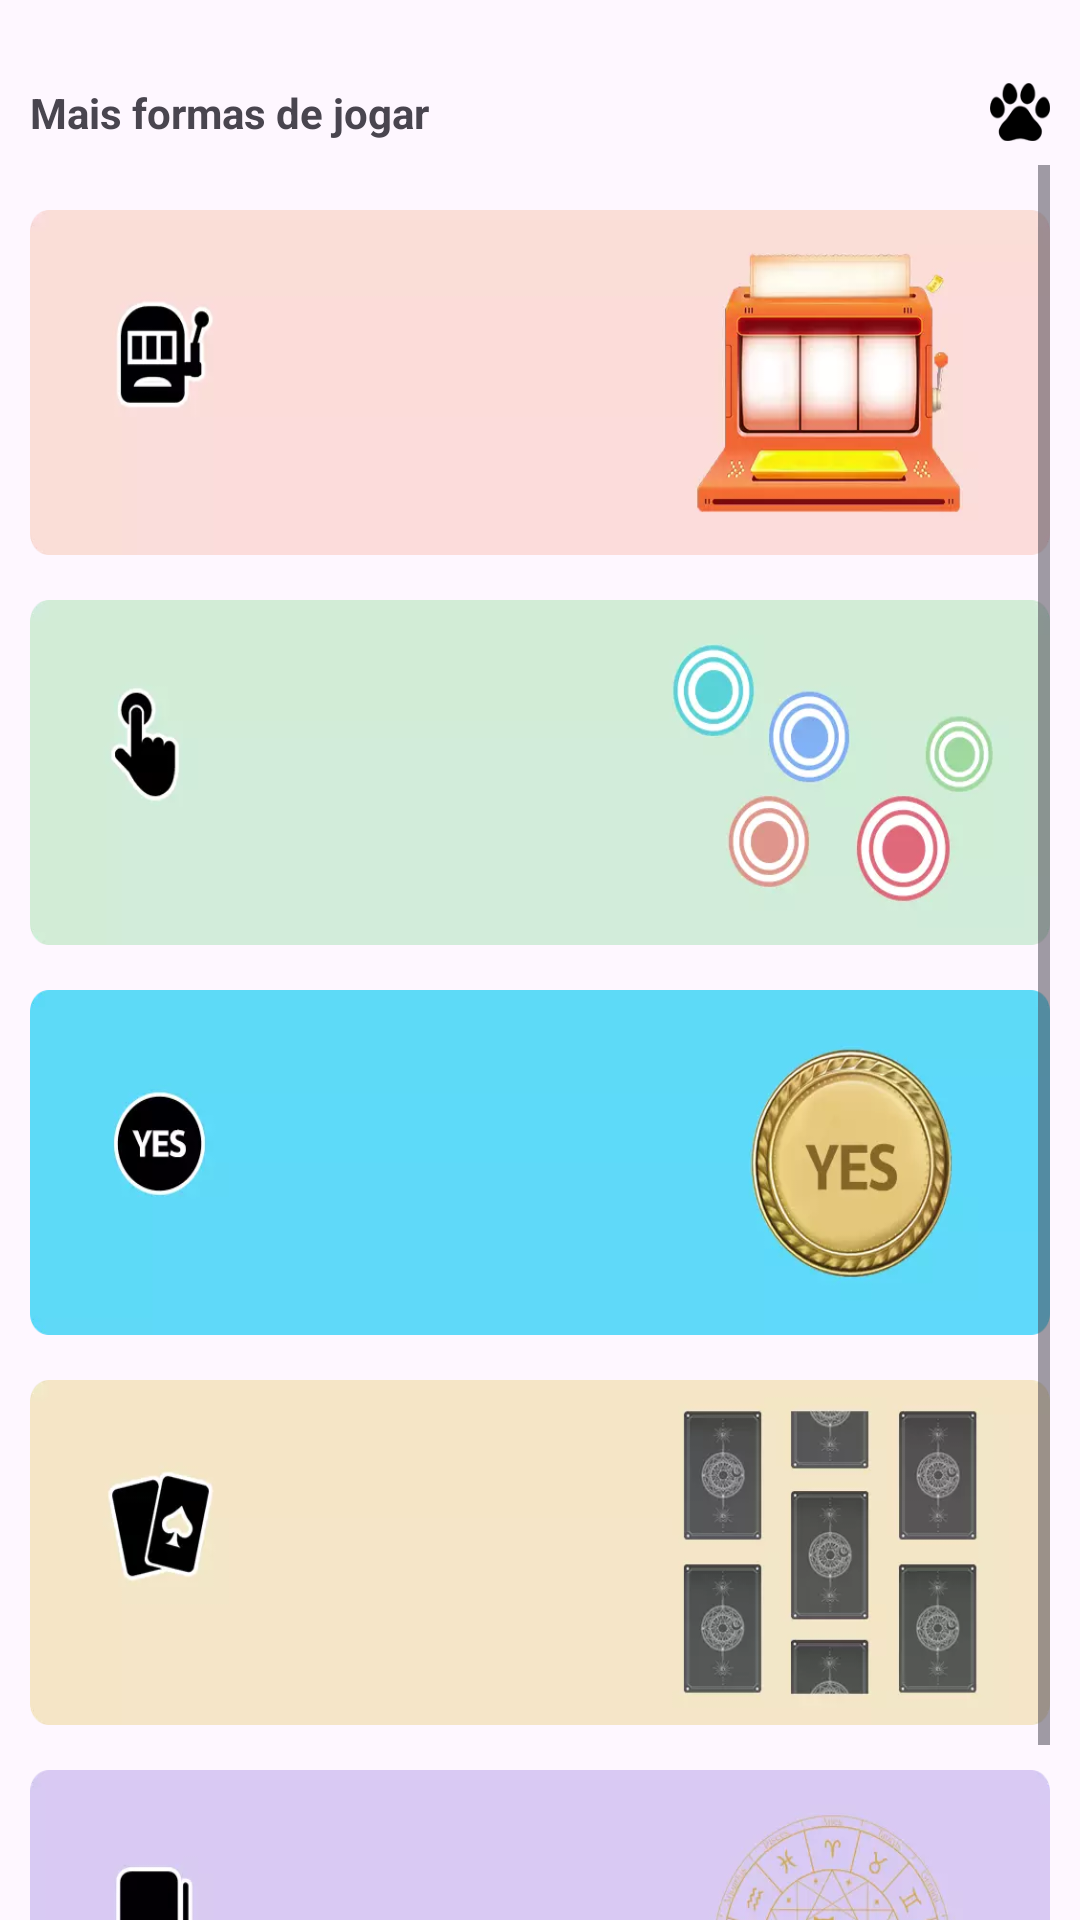

Where to tap for icons on this 1080x1920 app screen, as (x,y):
gouzhua: (1020,112)
